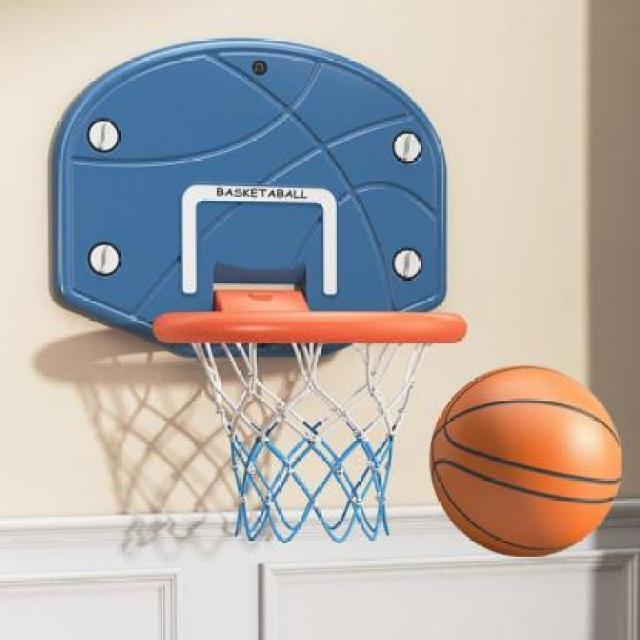basketball: (430, 363, 622, 557)
rim: (175, 314, 458, 542)
